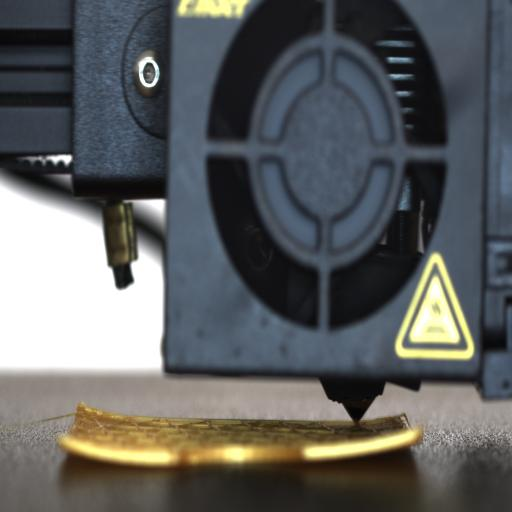warp: (303, 424, 424, 462), (56, 434, 180, 468)
